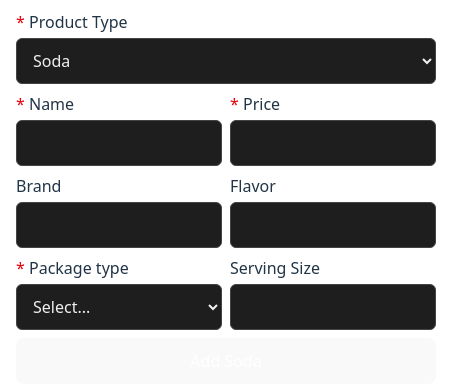
Scenario: Products Component › should change form fields when product type changes to Shoes
Select "Shoes" in the dropdown named "productType" below "Product Type": {"x": 226, "y": 61} [16,38,436,84]
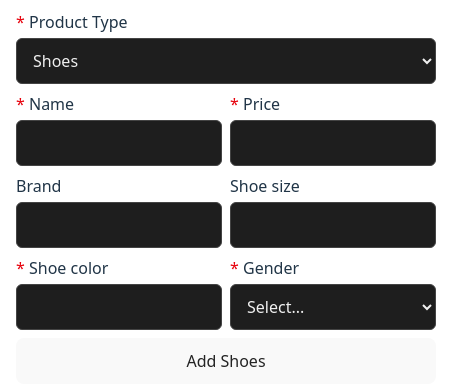
Expected: the field named "brand" below "Brand" is shown, [16,202,222,248]
Result: the field named "shoeColor" below "Shoe color" is shown at [16,284,222,330]
Result: the dropdown named "gender" below "Gender" is shown at [230,284,436,330]
